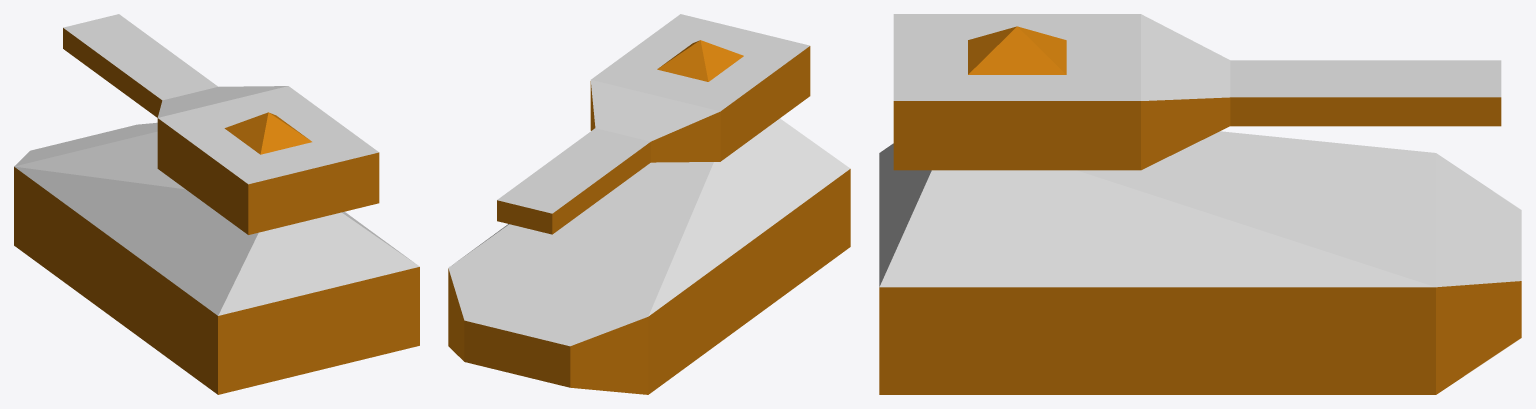
File: FirstTankBody.fbx
The picture shows the model from 3 angles, left to right: view 1: azimuth 30°, elevation 25°; view 2: azimuth 150°, elevation 25°; view 3: azimuth 270°, elevation 25°; orthographic projection. The views are drawn at different scales.
Parts seen in each view (by area): view 1: First Tank Body, First Tank Cannon; view 2: First Tank Body, First Tank Cannon; view 3: First Tank Body, First Tank Cannon.
Boxes of the visible parts, <box> form: First Tank Body: <box>14,122,419,394</box>; First Tank Cannon: <box>63,14,379,234</box>; First Tank Body: <box>448,118,850,394</box>; First Tank Cannon: <box>497,14,810,234</box>; First Tank Body: <box>879,131,1521,394</box>; First Tank Cannon: <box>893,14,1501,170</box>.
Bounding box in the file's own units: 283 × 297 × 572.
